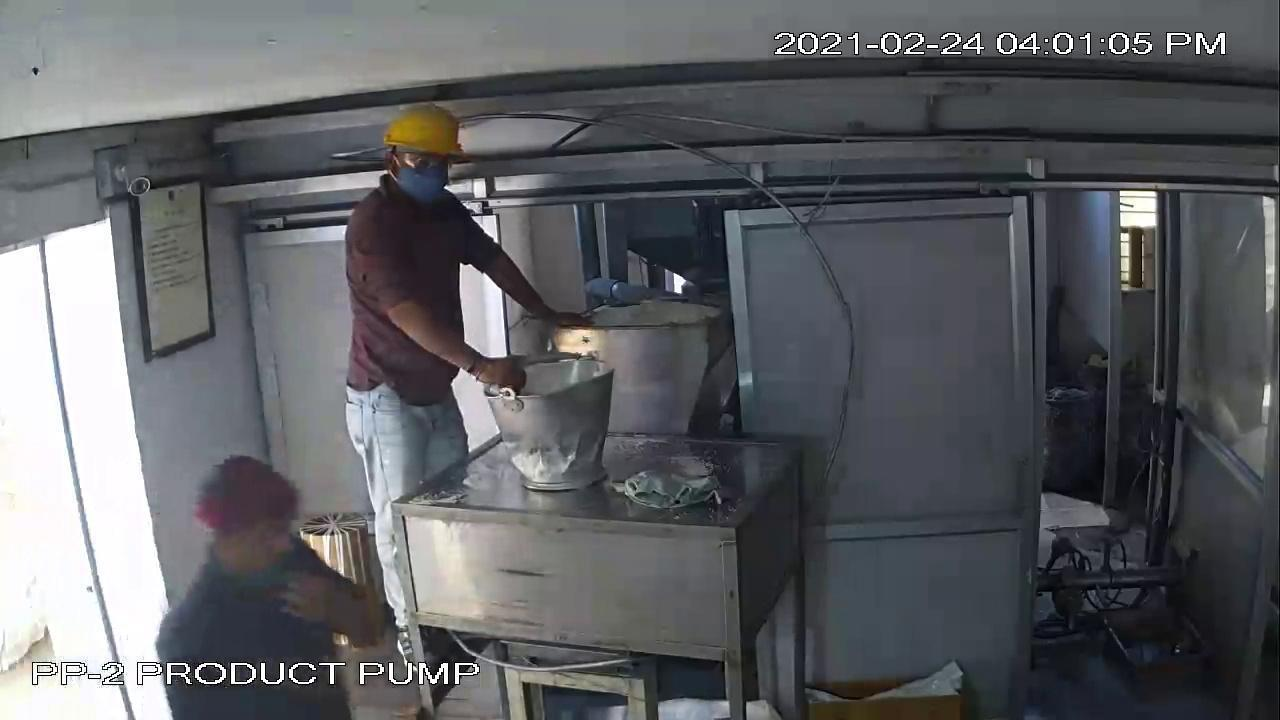helmet: (378, 103, 469, 166)
